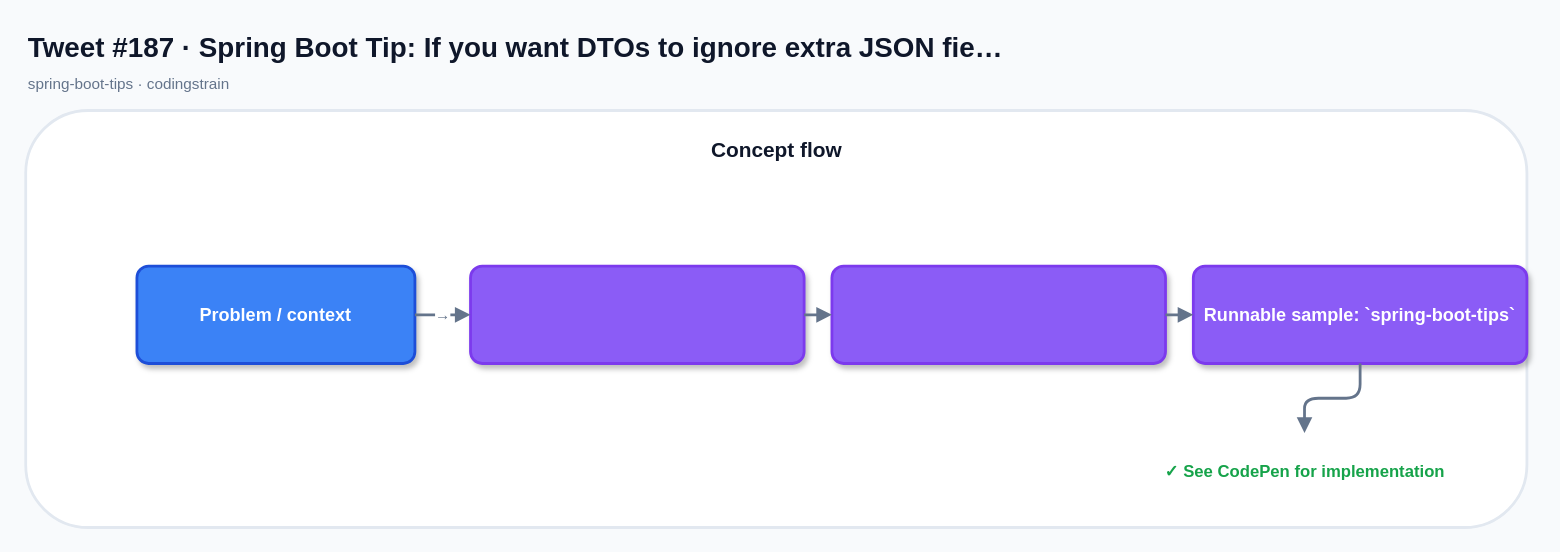
Image size: 1560x552. Some labels were removed from this diagram. Each missing label, with the centre of its shape:
#SpringBoot #CodingTips #SoftwareEngineering: the point at 999,316
💡 Spring Boot Tip: If you want DTOs to ignore extra JSON fields from c: the point at 638,316
